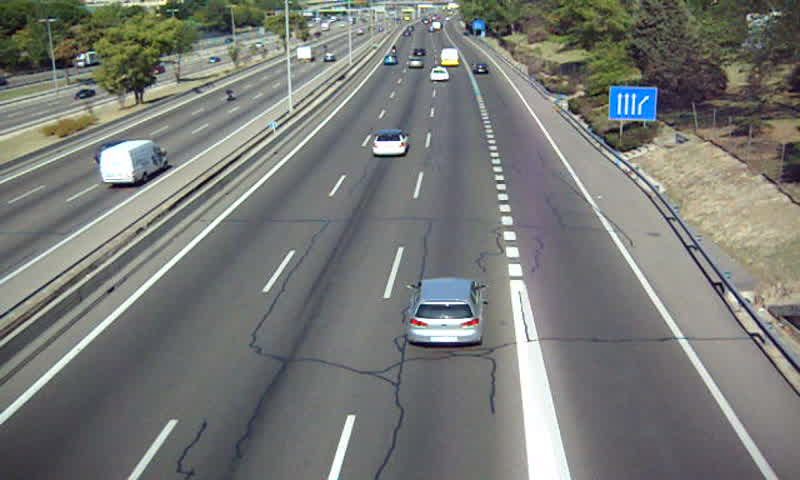car: (408, 280, 483, 344), (371, 130, 410, 157), (429, 68, 450, 82), (471, 63, 489, 76)
